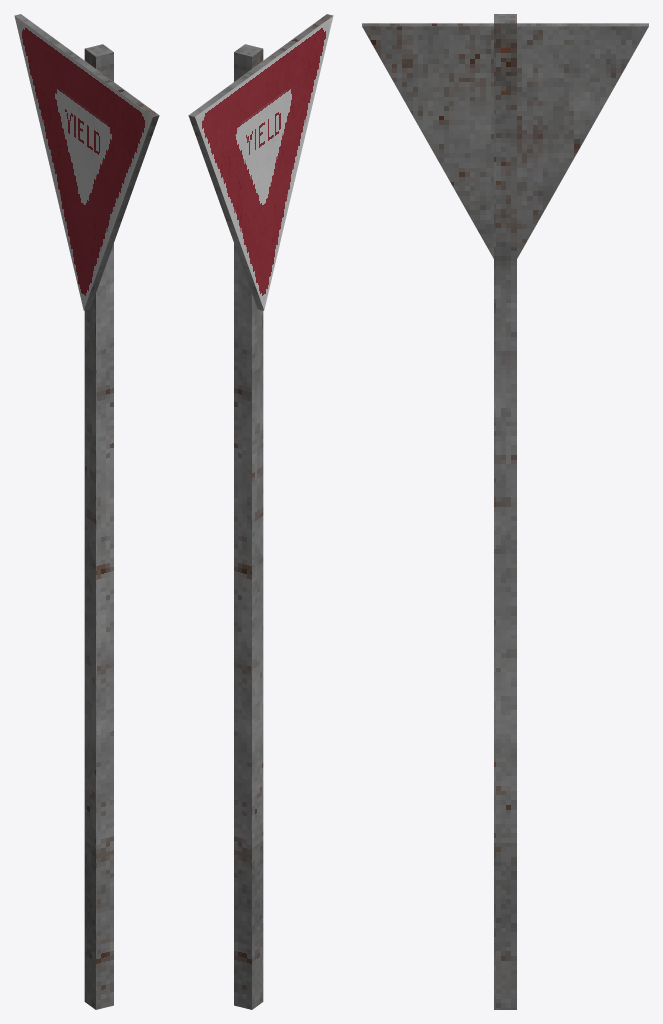
Rendered from Sign_Yield.glb.
The picture shows the model from 3 angles, left to right: view 1: azimuth 30°, elevation 25°; view 2: azimuth 150°, elevation 25°; view 3: azimuth 270°, elevation 25°; orthographic projection. The views are drawn at different scales.
Parts seen in each view (by area): view 1: Sign_Yield; view 2: Sign_Yield; view 3: Sign_Yield.
Part boxes in pixels (x1,y1,x2,y2): Sign_Yield: (14, 14, 159, 1009); Sign_Yield: (188, 14, 333, 1009); Sign_Yield: (362, 14, 648, 1009).
Bounding box in the file's own units: 0.0576 × 2.12 × 0.5574.
1 material, 1 textured.
